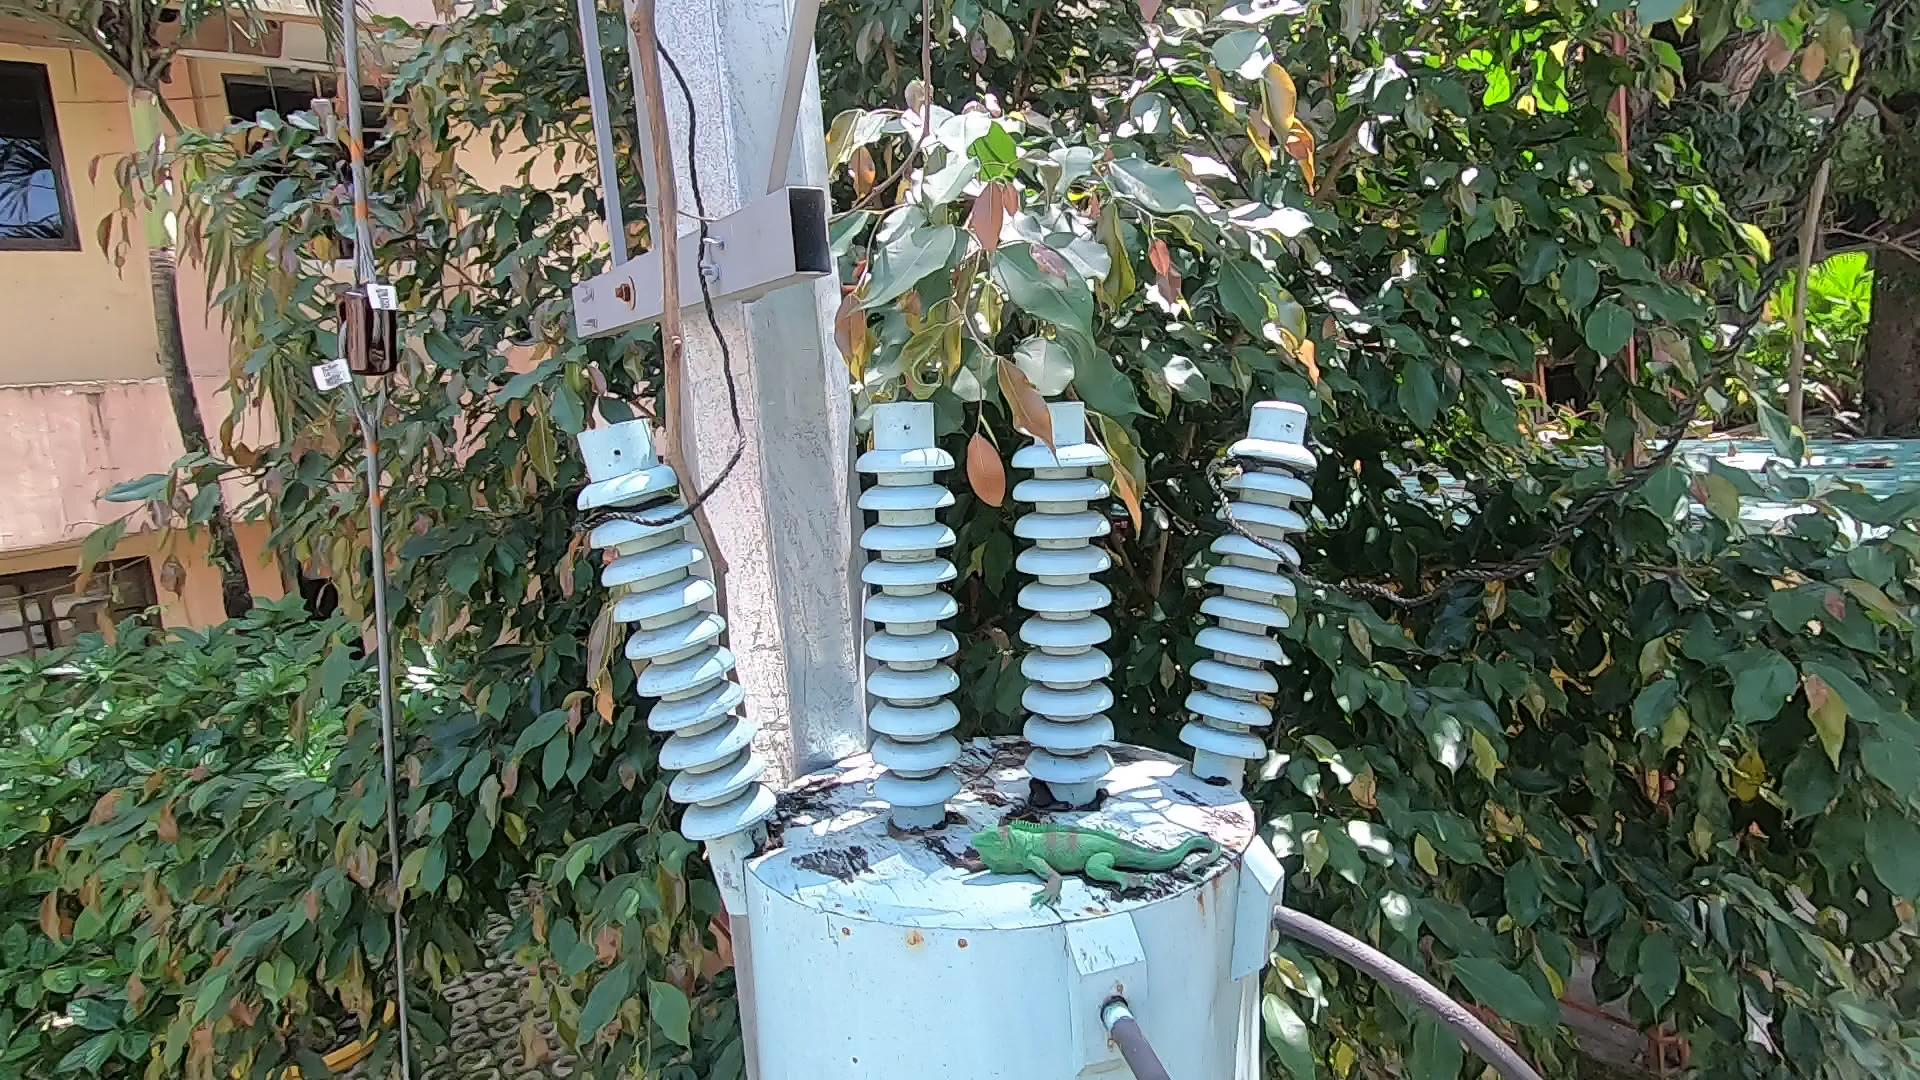branch with leaves: (944, 305, 1183, 556)
leaf: (746, 812, 799, 866), (1001, 785, 1063, 827)
tree branch: (592, 5, 794, 773)
